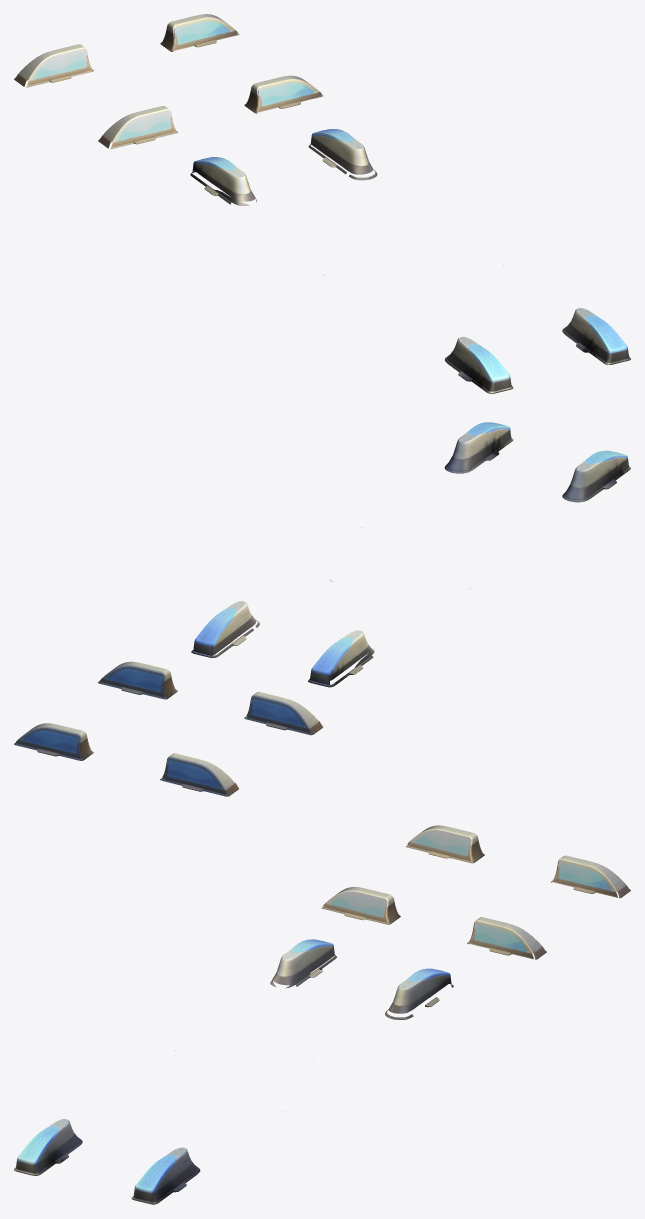
Rendered from pref_sm_beach_bk_centerblock_D01a_lv2.fbx.
3 renders of one model, top to bottom at view 1: azimuth 30°, elevation 25°; view 2: azimuth 150°, elevation 25°; view 3: azimuth 330°, elevation 25°, orthographic.
Parts seen in each view (by area): view 1: sm_beach_bk_centerblock_D01a_lv2; view 2: sm_beach_bk_centerblock_D01a_lv2; view 3: sm_beach_bk_centerblock_D01a_lv2.
Boxes of the visible parts, <box> form: sm_beach_bk_centerblock_D01a_lv2: <box>14,14,630,393</box>; sm_beach_bk_centerblock_D01a_lv2: <box>14,422,630,796</box>; sm_beach_bk_centerblock_D01a_lv2: <box>14,825,630,1204</box>.
Bounding box in the file's own units: 16.91 × 1.92 × 60.14.
Materials: 1 (1 with a texture image).
